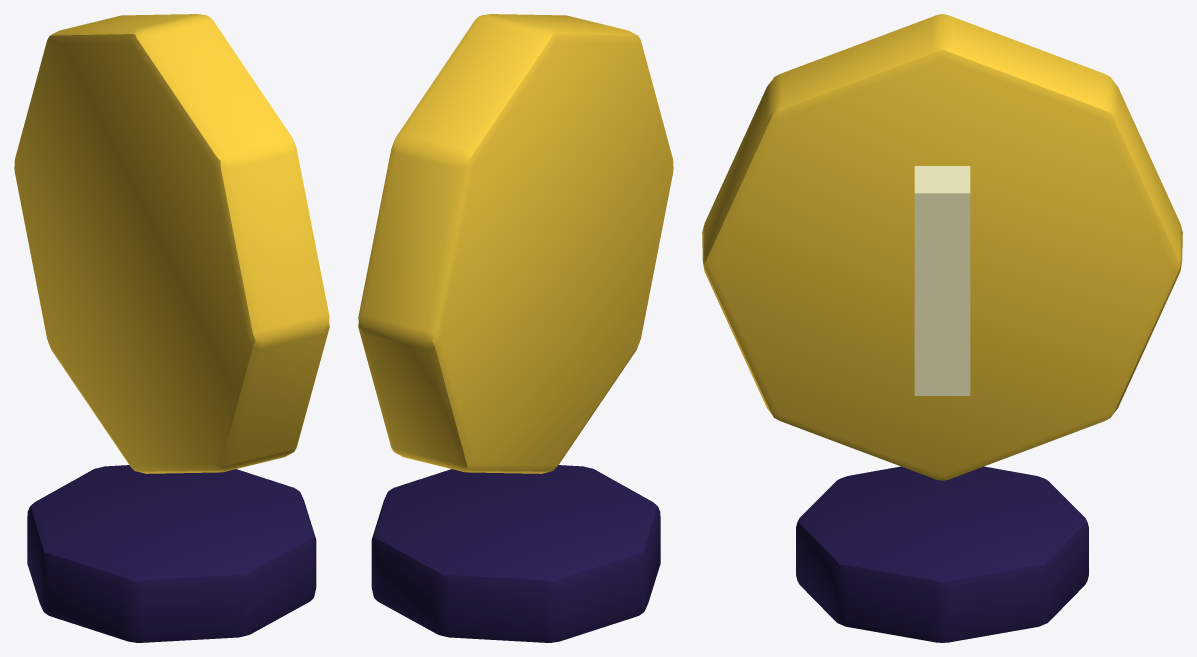
The model's file is RailPixel.fbx.
3 renders of one model, left to right at view 1: azimuth 30°, elevation 25°; view 2: azimuth 150°, elevation 25°; view 3: azimuth 270°, elevation 25°, orthographic.
Visible parts, largest first — view 1: RailPixel; view 2: RailPixel; view 3: RailPixel.
Part boxes in pixels (left/top/right/bottom): RailPixel: left=14, top=14, right=329, bottom=642; RailPixel: left=358, top=14, right=673, bottom=642; RailPixel: left=702, top=14, right=1182, bottom=642.
Bounding box in the file's own units: 78.65 × 164 × 129.
